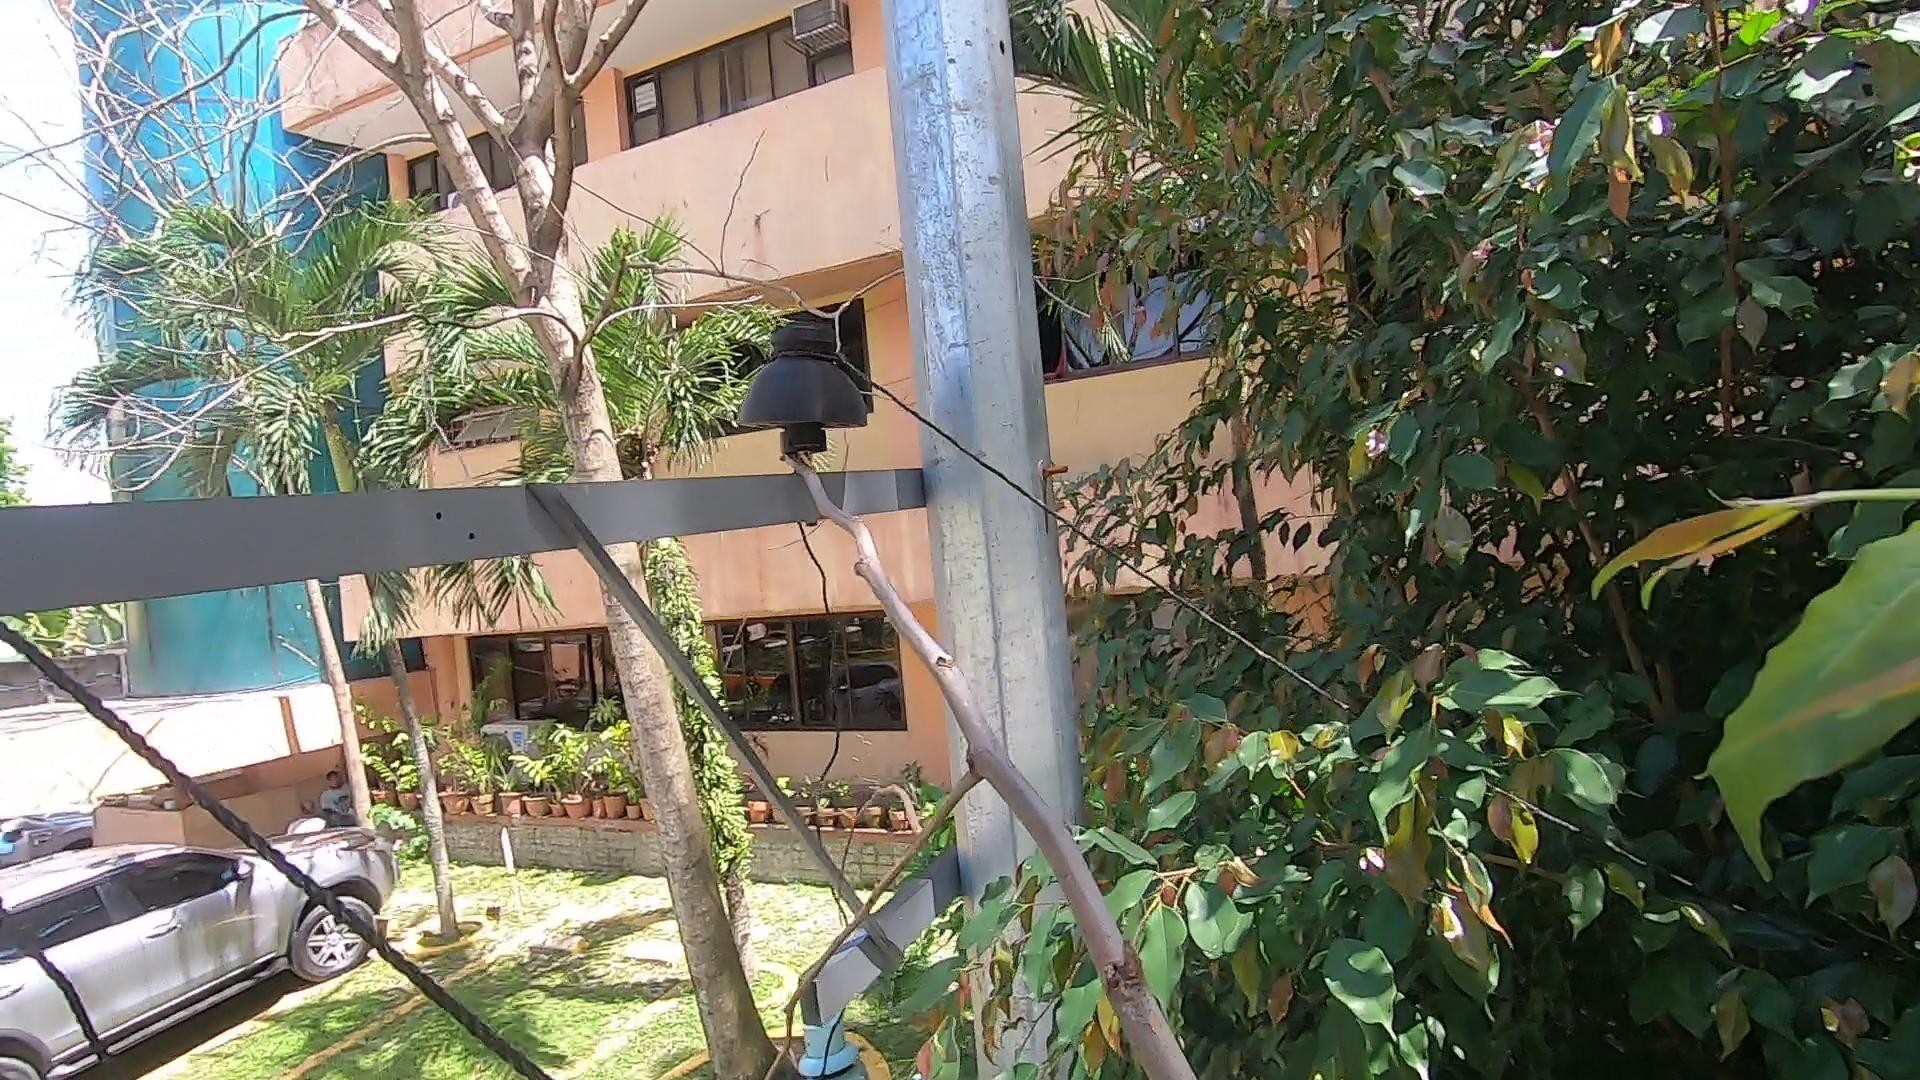branch with leaves: (934, 829, 1180, 1080)
tree branch: (703, 372, 1241, 1080)
